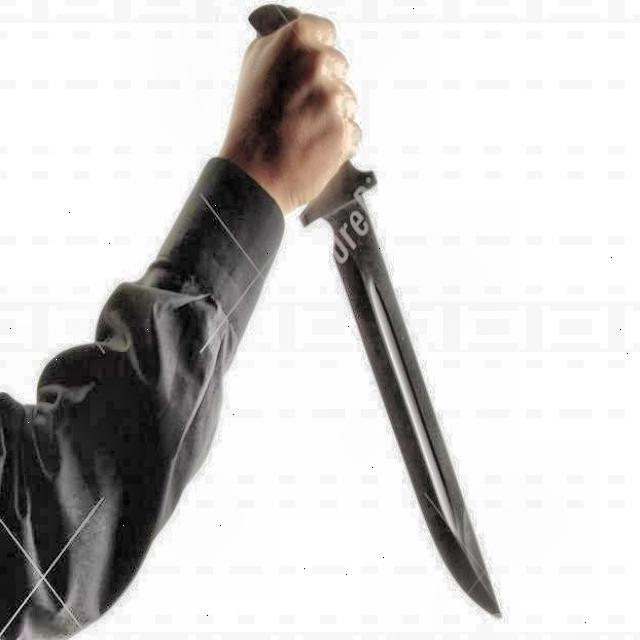knife: (252, 4, 501, 620)
